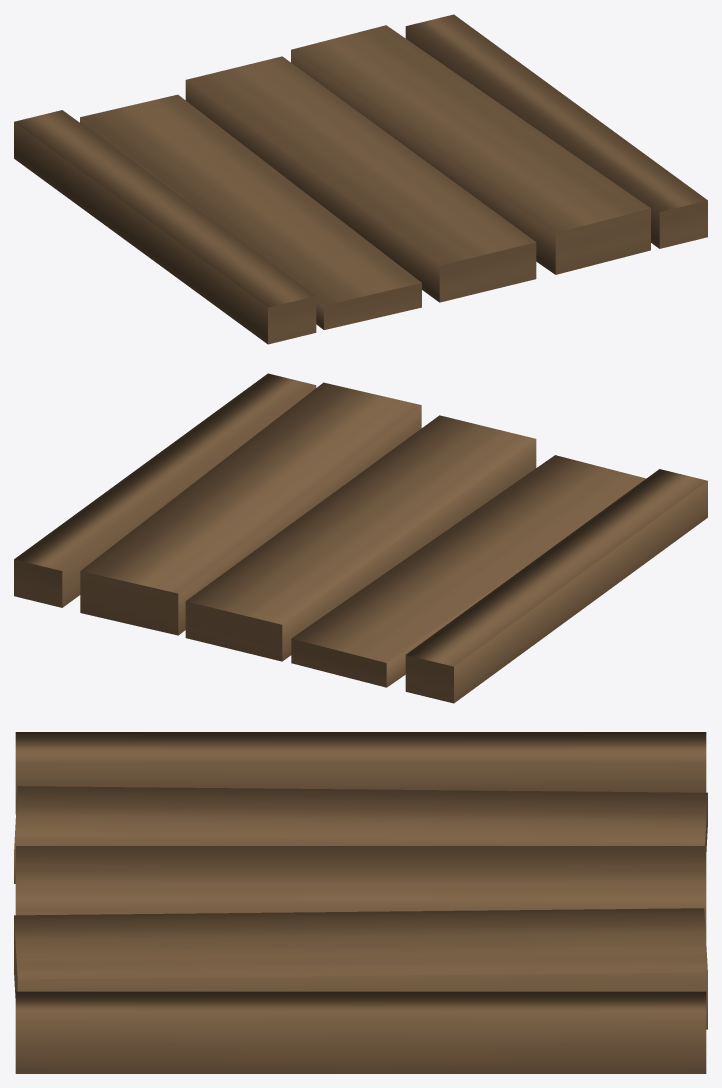
File: floor.glb
3 views of the same model, one above another, from view 1: azimuth 30°, elevation 25°; view 2: azimuth 150°, elevation 25°; view 3: azimuth 270°, elevation 25° (orthographic). The views are drawn at different scales.
Visible parts, largest first — view 1: Wooden Floor; view 2: Wooden Floor; view 3: Wooden Floor.
Part boxes in pixels (x1,y1,x2,y2): Wooden Floor: [14, 14, 707, 344]; Wooden Floor: [14, 373, 707, 703]; Wooden Floor: [14, 732, 707, 1073].
Bounding box in the file's own units: 1.97 × 0.18 × 1.98.
1 material, 1 textured.
